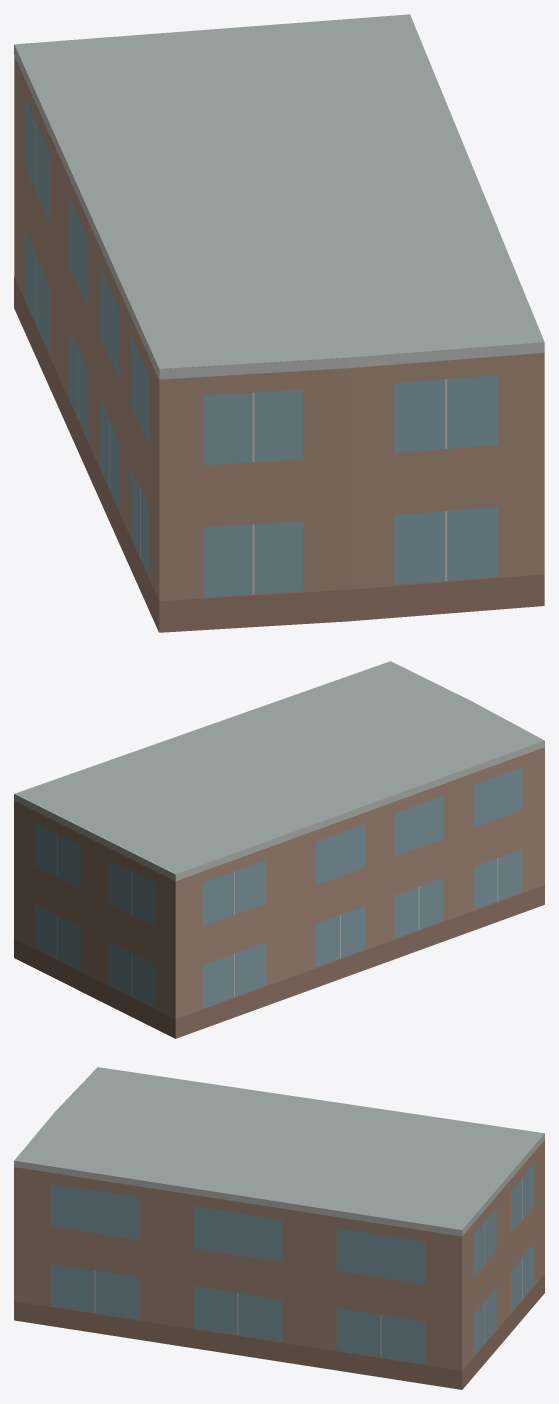
File: survey-upis-32942497.glb
3 renders of one model, top to bottom at view 1: azimuth 30°, elevation 25°; view 2: azimuth 150°, elevation 25°; view 3: azimuth 270°, elevation 25°, orthographic. The views are drawn at different scales.
Parts seen in each view (by area): view 1: survey-upis-32942497.tmp; view 2: survey-upis-32942497.tmp; view 3: survey-upis-32942497.tmp.
Part boxes in pixels (bbox=[...]): survey-upis-32942497.tmp: bbox=[14, 14, 544, 632]; survey-upis-32942497.tmp: bbox=[14, 661, 544, 1038]; survey-upis-32942497.tmp: bbox=[14, 1067, 544, 1389].
Size of the model in its own units: 13.37 by 6.1 by 18.38.
